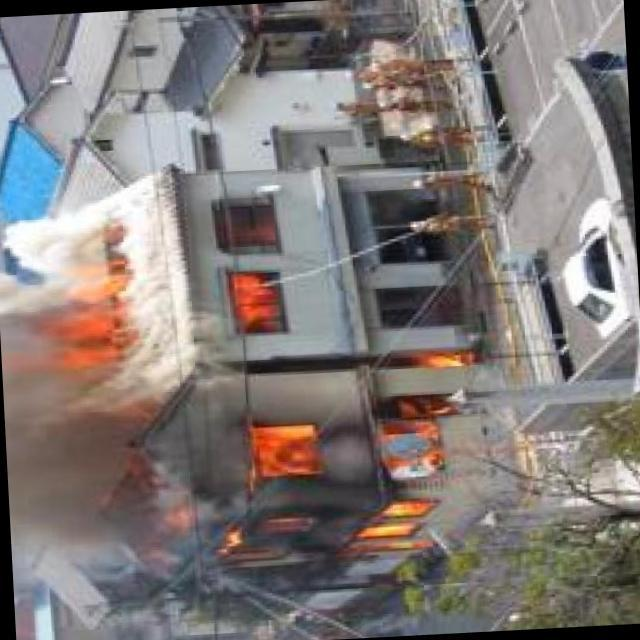Fire: (169, 349, 476, 584), (17, 213, 134, 390), (230, 259, 293, 330)
